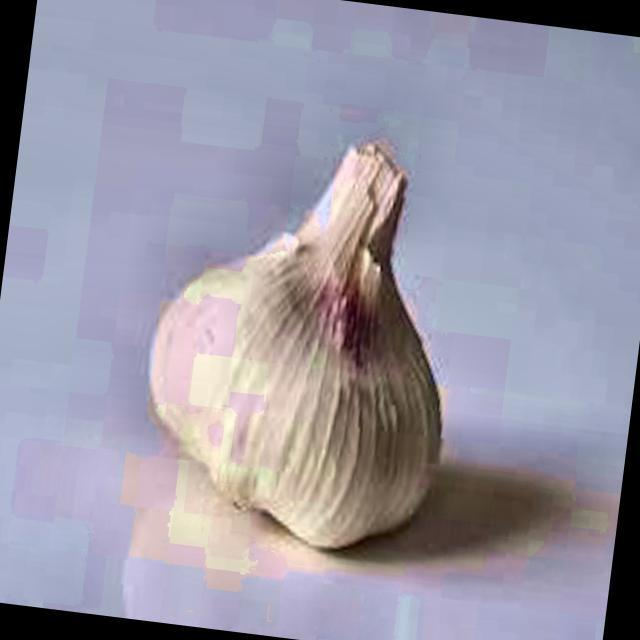garlic: (150, 142, 441, 548)
